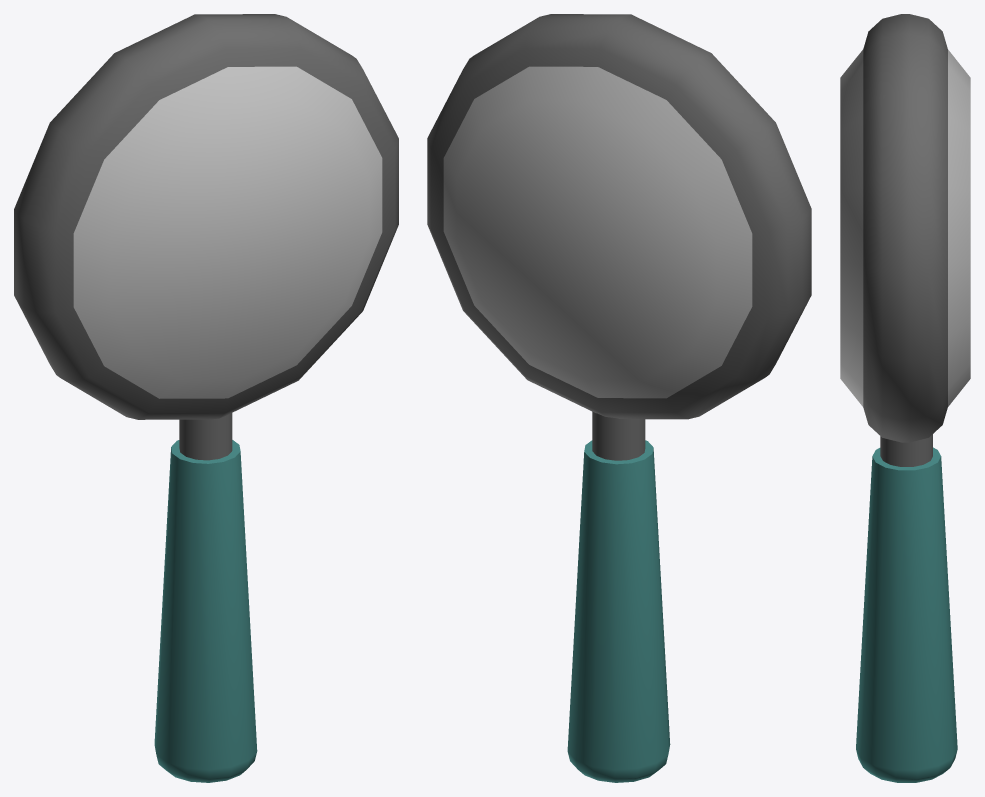
Rendered from Magnifying Glass_1.fbx.
The picture shows the model from 3 angles, left to right: view 1: azimuth 30°, elevation 25°; view 2: azimuth 150°, elevation 25°; view 3: azimuth 270°, elevation 25°; orthographic projection. The views are drawn at different scales.
Visible parts, largest first — view 1: Magnifying Glass_1; view 2: Magnifying Glass_1; view 3: Magnifying Glass_1.
Part boxes in pixels (x1,y1,x2,y2): Magnifying Glass_1: [14, 14, 398, 782]; Magnifying Glass_1: [427, 14, 811, 782]; Magnifying Glass_1: [840, 14, 970, 782].
Bounding box in the file's own units: 0.1281 × 0.2487 × 0.0399.
